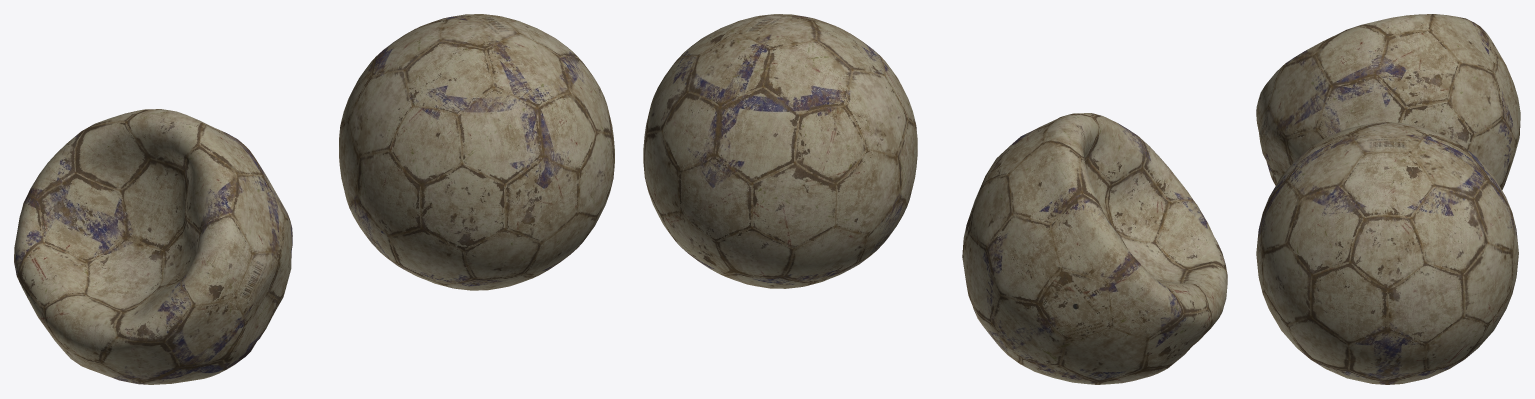
Rendered from football.glb.
3 renders of one model, left to right at view 1: azimuth 30°, elevation 25°; view 2: azimuth 150°, elevation 25°; view 3: azimuth 270°, elevation 25°, orthographic. The views are drawn at different scales.
Visible parts, largest first — view 1: football_inflated, football_deflated; view 2: football_inflated, football_deflated; view 3: football_inflated, football_deflated.
Boxes of the visible parts, x1,y1,x2,y2 form: football_inflated: (339,14,614,290); football_deflated: (14,109,292,384); football_inflated: (643,14,917,288); football_deflated: (962,113,1227,384); football_inflated: (1256,122,1518,384); football_deflated: (1256,14,1520,189).
Bounding box in the file's own units: 0.5089 × 0.2219 × 0.2222.
Materials: 1 (1 with a texture image).
